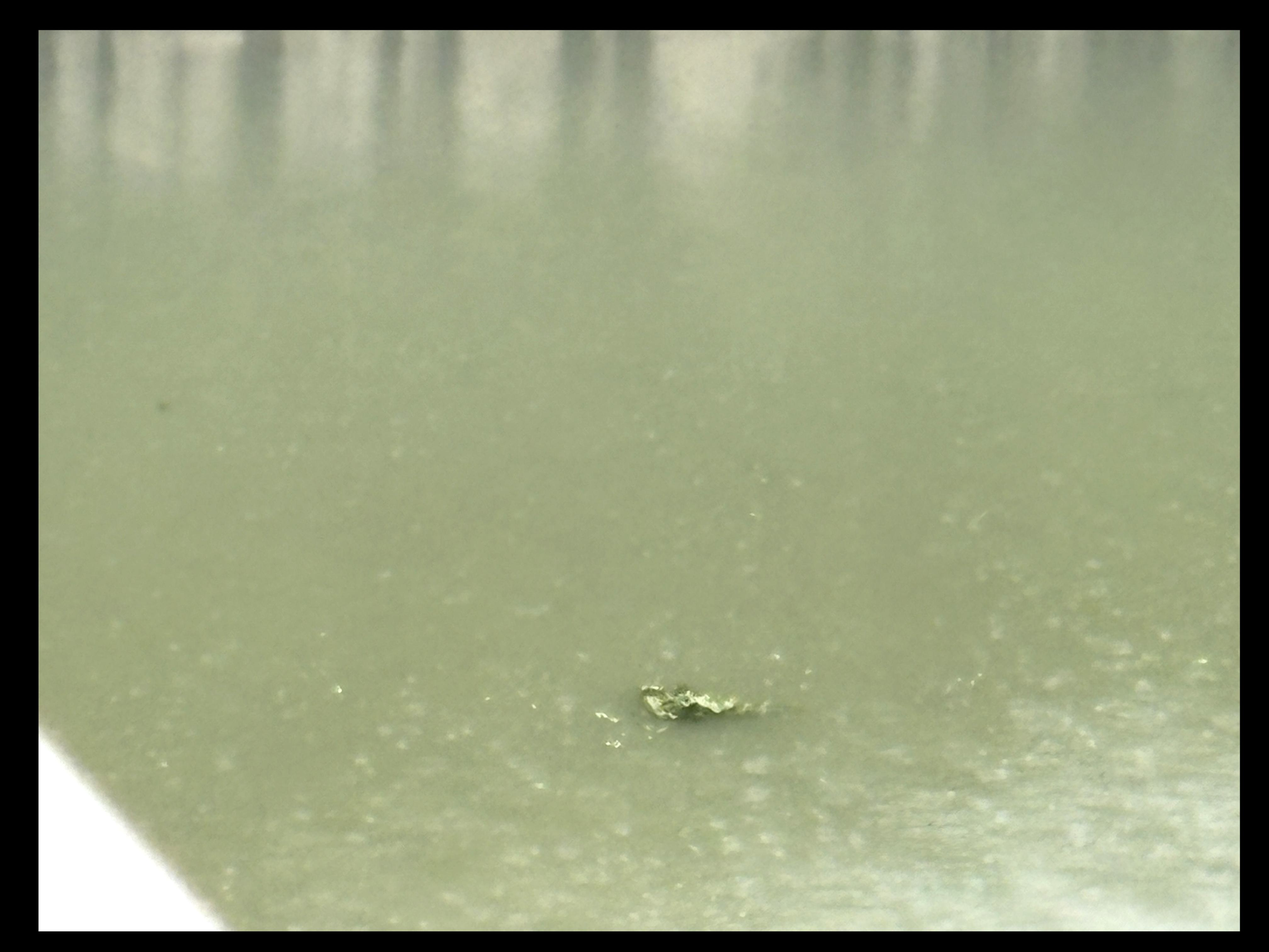Other: (640, 687, 769, 718)
